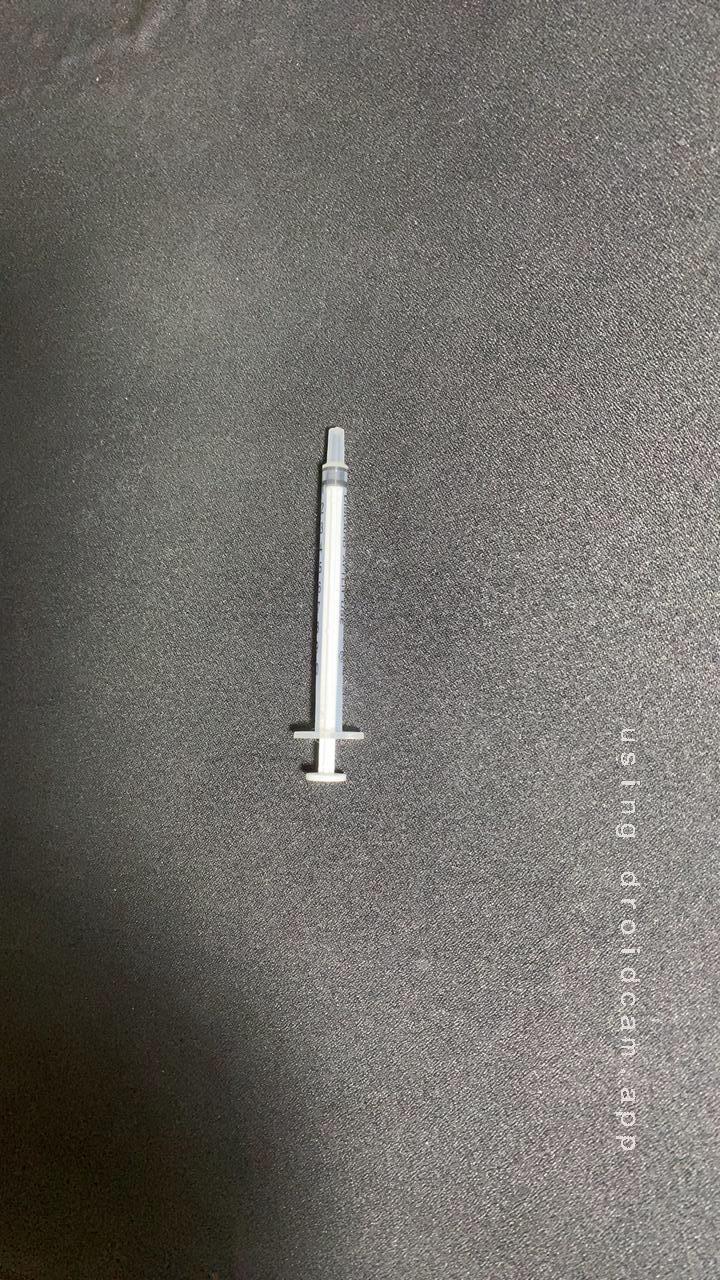syringe: (256, 418, 397, 790)
